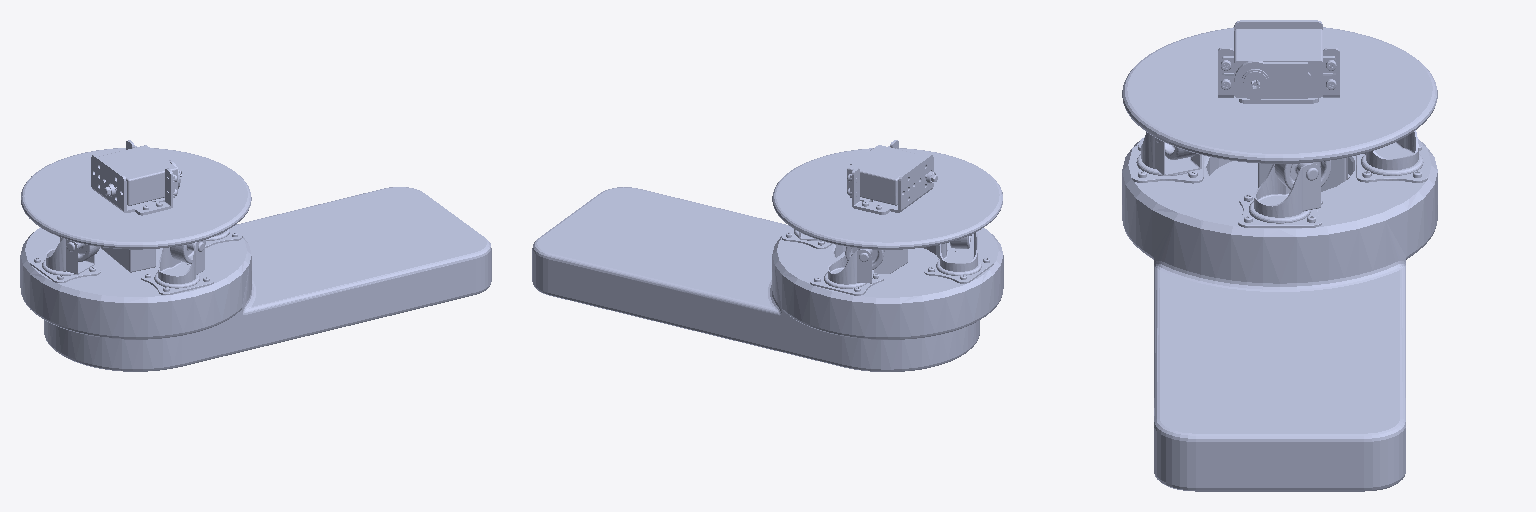
robot.urdf — roboticarm:
<?xml version="1.0" encoding="utf-8"?>
<!-- This URDF was automatically created by SolidWorks to URDF Exporter! Originally created by [author] ([email redacted]) 
     Commit Version: 1.6.0-4-g7f85cfe  Build Version: 1.6.7995.38578
     For more information, please see http://wiki.ros.org/sw_urdf_exporter -->
<robot
  name="roboticarm">
  <link
    name="robot_base">
    <inertial>
      <origin
        xyz="0.062053 0.000214 0.026334"
        rpy="0 0 0" />
      <mass
        value="5" />
      <inertia
        ixx="0.0022893"
        ixy="-1.8956E-07"
        ixz="0.00091472"
        iyy="0.011178"
        iyz="9.2797E-08"
        izz="0.012678" />
    </inertial>
    <visual>
      <origin
        xyz="0 0 0"
        rpy="0 0 0" />
      <geometry>
        <mesh
          filename="package://roboticarm/meshes/robot_base.STL" />
      </geometry>
      <material
        name="">
        <color
          rgba="0.79216 0.81961 0.93333 1" />
      </material>
    </visual>
    <collision>
      <origin
        xyz="0 0 0"
        rpy="0 0 0" />
      <geometry>
        <mesh
          filename="package://roboticarm/meshes/robot_base.STL" />
      </geometry>
    </collision>
  </link>
  <link
    name="link_1">
    <inertial>
      <origin
        xyz="-0.00025379 5.5758E-06 0.0071497"
        rpy="0 0 0" />
      <mass
        value="1" />
      <inertia
        ixx="0.00012711"
        ixy="-9.2677E-08"
        ixz="-1.6493E-13"
        iyy="0.0001284"
        iyz="-1.789E-07"
        izz="0.00025256" />
    </inertial>
    <visual>
      <origin
        xyz="0 0 0"
        rpy="0 0 0" />
      <geometry>
        <mesh
          filename="package://roboticarm/meshes/link_1.STL" />
      </geometry>
      <material
        name="">
        <color
          rgba="0.79216 0.81961 0.93333 1" />
      </material>
    </visual>
    <collision>
      <origin
        xyz="0 0 0"
        rpy="0 0 0" />
      <geometry>
        <mesh
          filename="package://roboticarm/meshes/link_1.STL" />
      </geometry>
    </collision>
  </link>
  <joint
    name="joint_1"
    type="revolute">
    <origin
      xyz="0 0 0.0947"
      rpy="0 0 1.5708" />
    <parent
      link="robot_base" />
    <child
      link="link_1" />
    <axis
      xyz="0 0 -1" />
    <limit
      lower="-0.785"
      upper="0.785"
      effort="0"
      velocity="0" />
  </joint>
  <link
    name="link_2">
    <inertial>
      <origin
        xyz="-0.0058402 0.025415 0.09891"
        rpy="0 0 0" />
      <mass
        value="1" />
      <inertia
        ixx="5.6134E-05"
        ixy="-1.26E-07"
        ixz="-1.2372E-06"
        iyy="3.5146E-05"
        iyz="1.4388E-07"
        izz="3.9106E-05" />
    </inertial>
    <visual>
      <origin
        xyz="0 0 0"
        rpy="0 0 0" />
      <geometry>
        <mesh
          filename="package://roboticarm/meshes/link_2.STL" />
      </geometry>
      <material
        name="">
        <color
          rgba="0.79216 0.81961 0.93333 1" />
      </material>
    </visual>
    <collision>
      <origin
        xyz="0 0 0"
        rpy="0 0 0" />
      <geometry>
        <mesh
          filename="package://roboticarm/meshes/link_2.STL" />
      </geometry>
    </collision>
  </link>
  <joint
    name="joint_2"
    type="revolute">
    <origin
      xyz="-0.011637 -0.026701 0.019"
      rpy="0 0 0" />
    <parent
      link="link_1" />
    <child
      link="link_2" />
    <axis
      xyz="0 1 0" />
    <limit
      lower="-0.785"
      upper="0.785"
      effort="0"
      velocity="0" />
  </joint>
  <link
    name="link_3">
    <inertial>
      <origin
        xyz="-0.0023903 -0.046666 -0.0060841"
        rpy="0 0 0" />
      <mass
        value="1" />
      <inertia
        ixx="5.7391E-06"
        ixy="-1.5165E-07"
        ixz="2.9807E-09"
        iyy="3.566E-06"
        iyz="-1.1049E-10"
        izz="7.9979E-06" />
    </inertial>
    <visual>
      <origin
        xyz="0 0 0"
        rpy="0 0 0" />
      <geometry>
        <mesh
          filename="package://roboticarm/meshes/link_3.STL" />
      </geometry>
      <material
        name="">
        <color
          rgba="0.79216 0.81961 0.93333 1" />
      </material>
    </visual>
    <collision>
      <origin
        xyz="0 0 0"
        rpy="0 0 0" />
      <geometry>
        <mesh
          filename="package://roboticarm/meshes/link_3.STL" />
      </geometry>
    </collision>
  </link>
  <joint
    name="joint_3"
    type="revolute">
    <origin
      xyz="-0.076851 0.03547 0.12006"
      rpy="0.23129 0 -1.5328" />
    <parent
      link="link_2" />
    <child
      link="link_3" />
    <axis
      xyz="0.036969 0.99932 0" />
    <limit
      lower="-0.785"
      upper="0.785"
      effort="0"
      velocity="0" />
  </joint>
</robot>

--- Render facts (derived) ---
Views: 3 orthographic renders of the robot side by side, from view 1: azimuth 30°, elevation 25°; view 2: azimuth 150°, elevation 25°; view 3: azimuth 270°, elevation 25°.
Model roboticarm with 4 links and 3 joints (3 revolute), rooted at robot_base, posed all joints at 0.
Visible links, largest first — view 1: robot_base, link_1; view 2: robot_base, link_1; view 3: robot_base, link_1.
Link boxes in pixels (box(x1,y1,x2,y2)): robot_base: box(20, 187, 491, 371); link_1: box(21, 140, 251, 249); robot_base: box(532, 187, 1003, 371); link_1: box(772, 140, 1002, 249); robot_base: box(1122, 130, 1437, 491); link_1: box(1122, 20, 1437, 163).
Size in the robot's own frame: 0.315 by 0.15 by 0.1257 metres.
Meshes: 4 distinct files referenced, 2 mesh visuals loaded (2 binary STL); not drawn: 2 (reference not matched to a file when rendering).